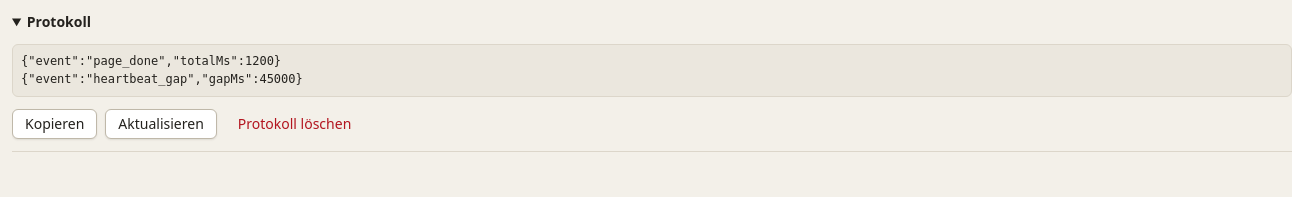
Test: DiagnosticsLog › shows the entries and copies them for an email
Click the button "Kopieren".
click(55, 124)  # box [12,109,97,139]
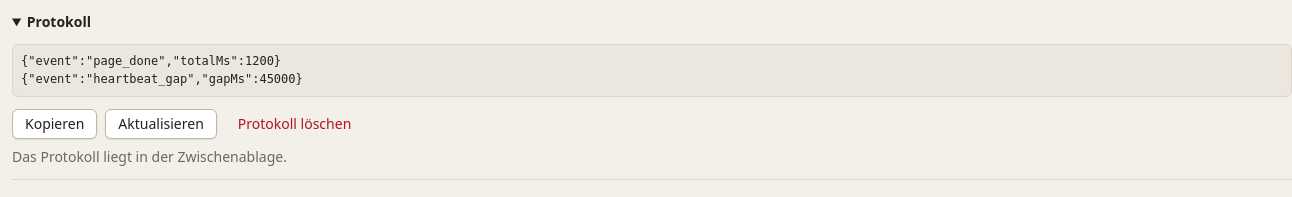
expect the text "Zwischenablage" is shown: met, box [12,147,287,166]
